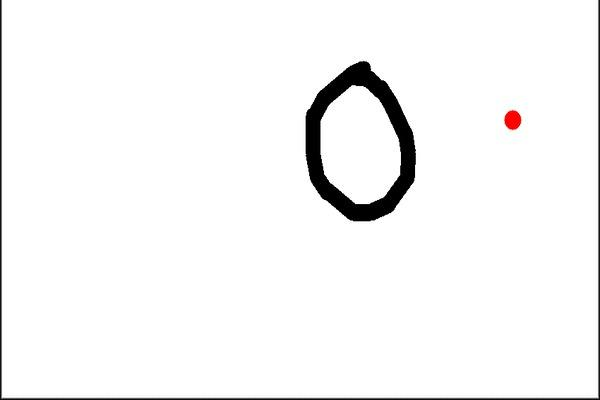O: (281, 47, 434, 228)
